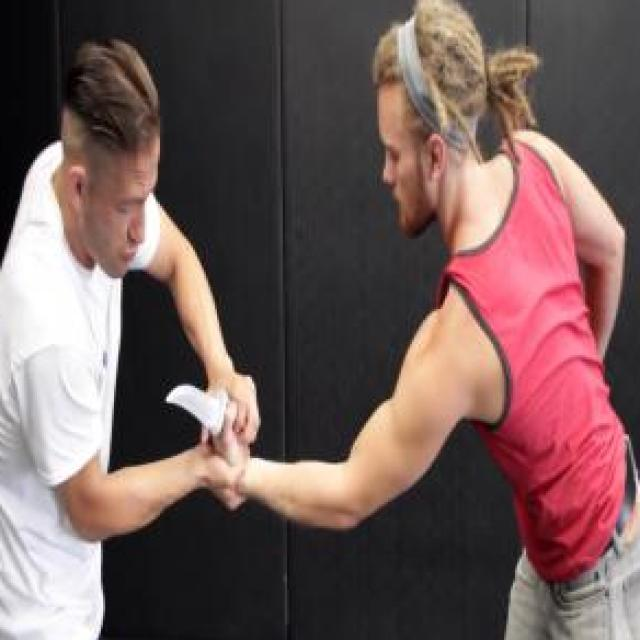knife: (155, 372, 252, 452)
